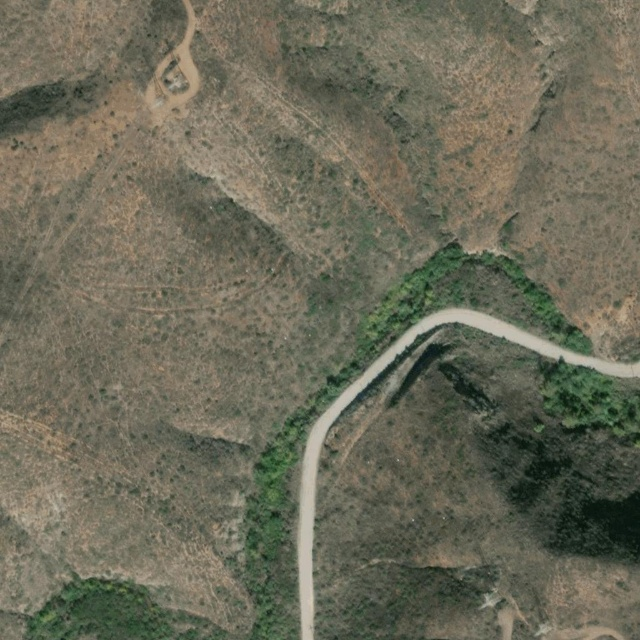vegetation: (236, 246, 598, 640), (24, 579, 242, 640), (538, 355, 640, 452)
